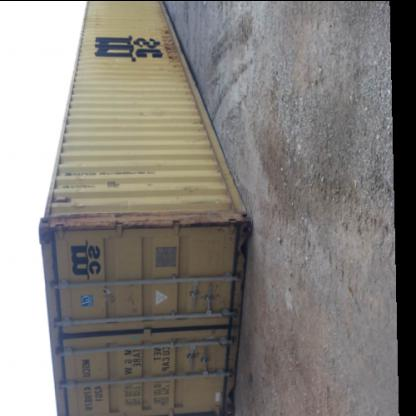Damage: (47, 204, 240, 233), (156, 26, 180, 64), (186, 282, 221, 306), (126, 277, 142, 315), (92, 283, 114, 307), (102, 172, 128, 190), (89, 1, 105, 29), (176, 182, 204, 198), (96, 54, 122, 70), (132, 106, 150, 119)
